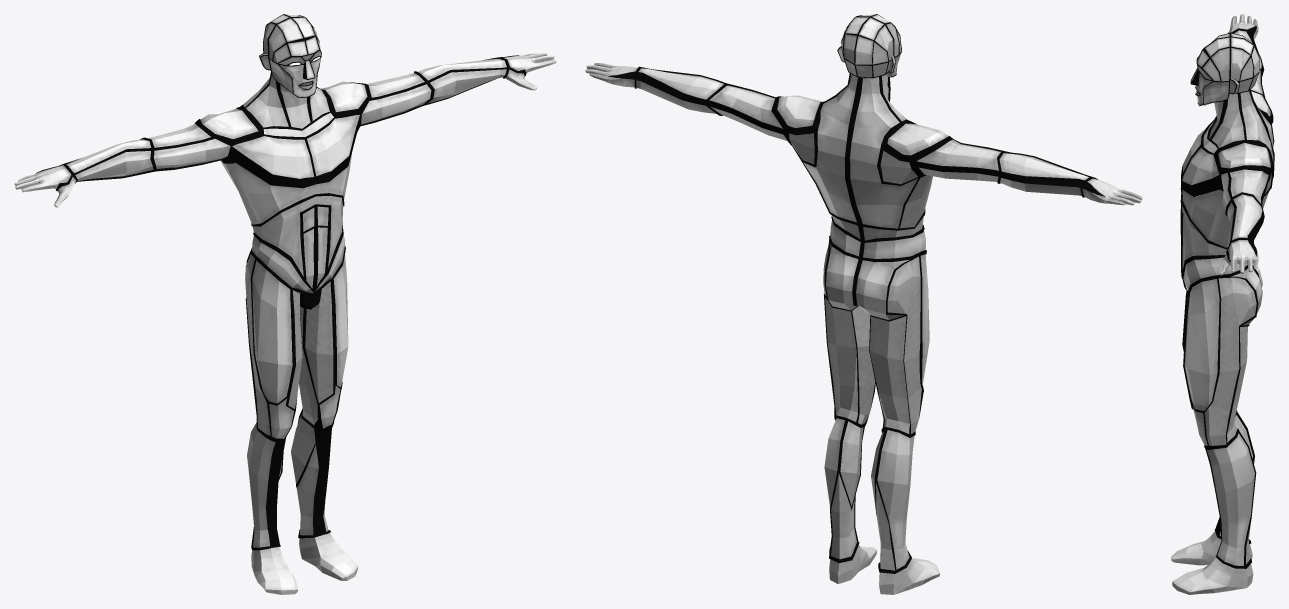
The model's file is Orion_Art.fbx.
The picture shows the model from 3 angles, left to right: view 1: azimuth 30°, elevation 25°; view 2: azimuth 150°, elevation 25°; view 3: azimuth 270°, elevation 25°; orthographic projection. The views are drawn at different scales.
Visible parts, largest first — view 1: Orion; view 2: Orion; view 3: Orion.
Part boxes in pixels (x1,y1,x2,y2): Orion: (14,14,556,594); Orion: (585,14,1142,594); Orion: (1171,14,1274,594).
Size of the model in its own units: 1.24 by 1.21 by 0.2104.
